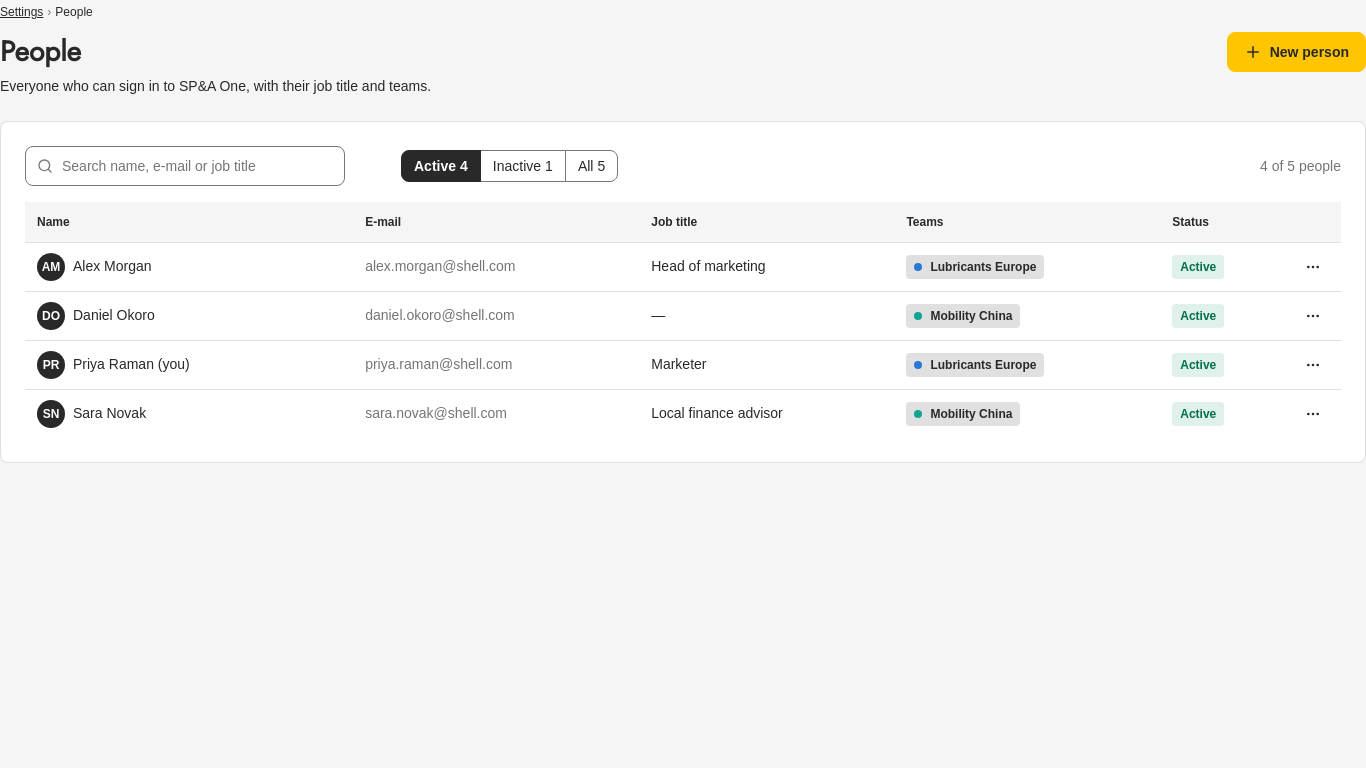
PeoplePage (feature 003, US1): New person and Edit person › edits a person and says who saved first after a conflict (US1-4)
Click the button named "Actions for Alex Morgan" at [1313, 266], box [1297,250,1329,282]
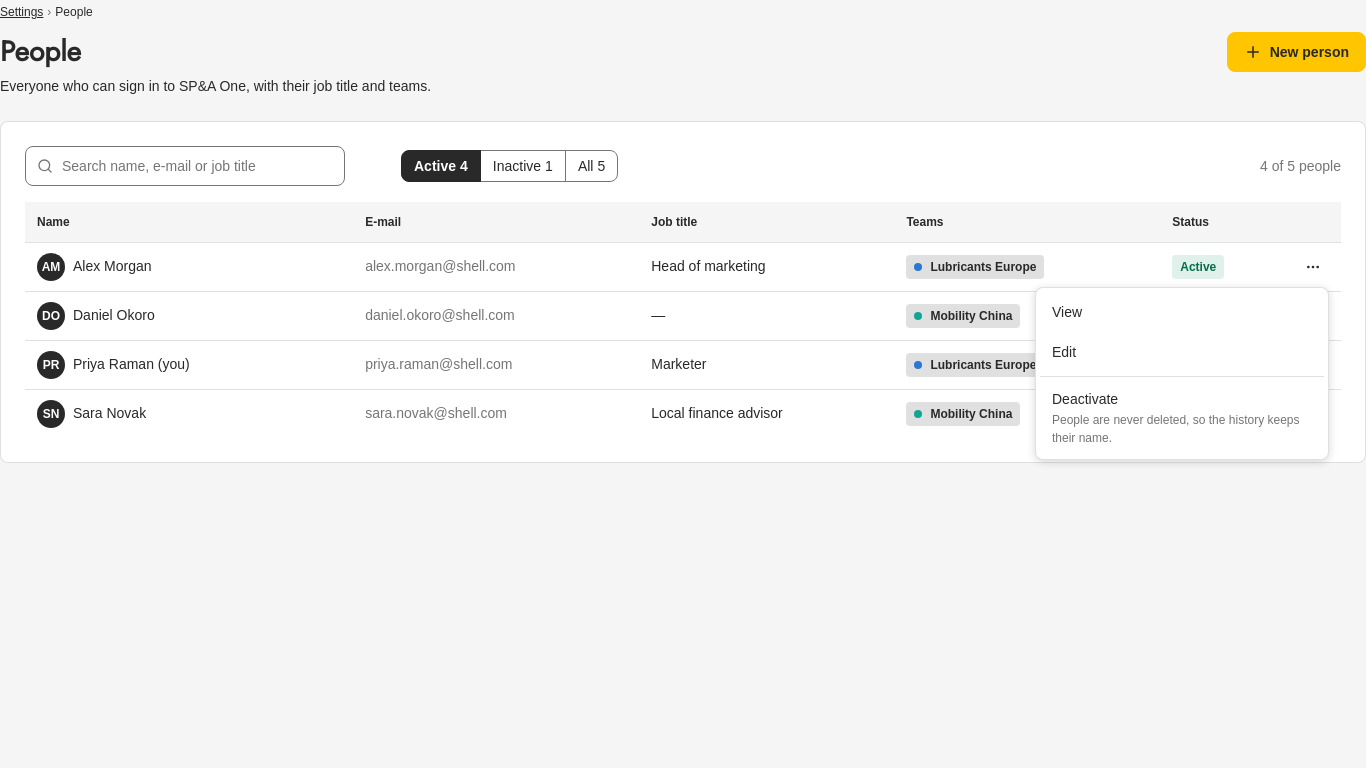
Click the menu item "Edit" at [1064, 352], box [1052,344,1076,360]
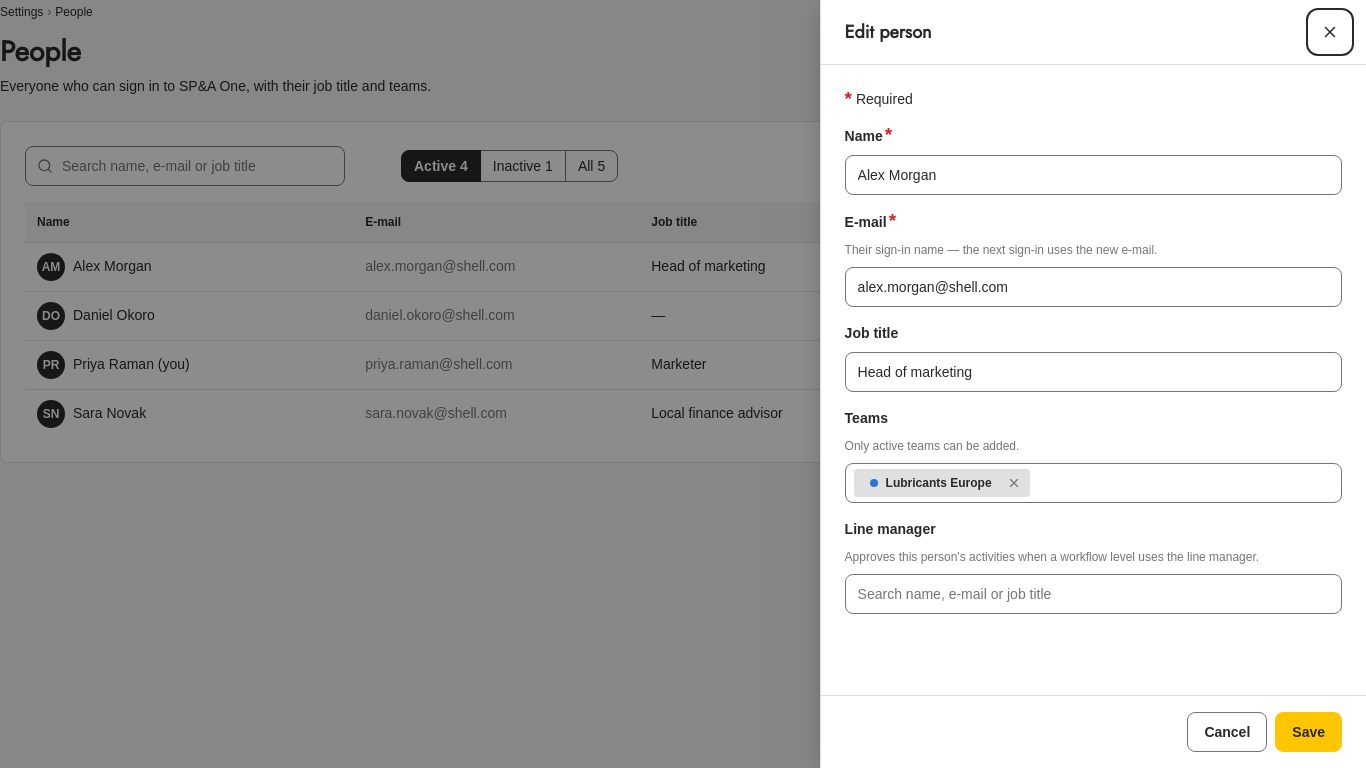
Expected: the text "Their sign-in name — the next sign-in uses the new e-mail." is shown, [845,243,1157,257]
Replace the text in the field labelled "Job title" with "Marketing director" at [1093, 372], box [845,352,1342,392]
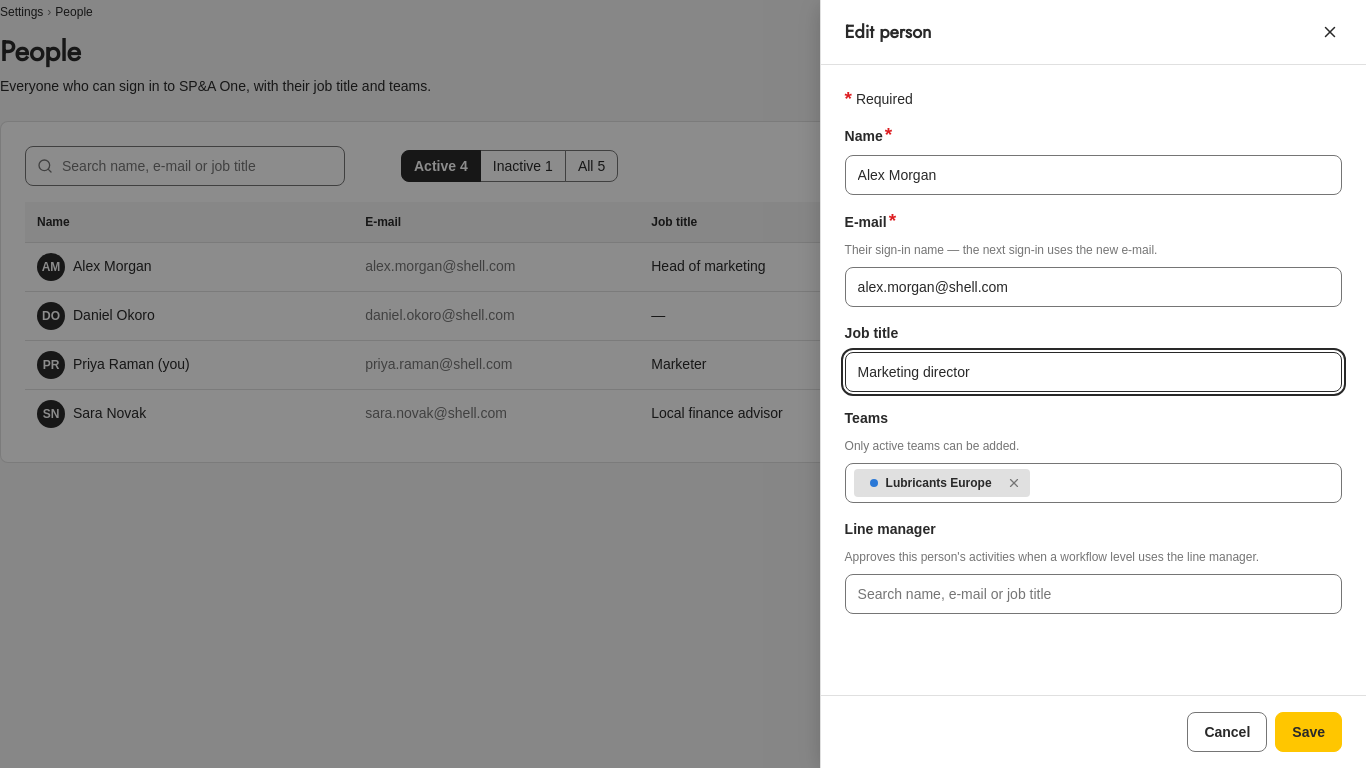
Click the button "Save" at [1309, 732], box [1275,712,1342,752]
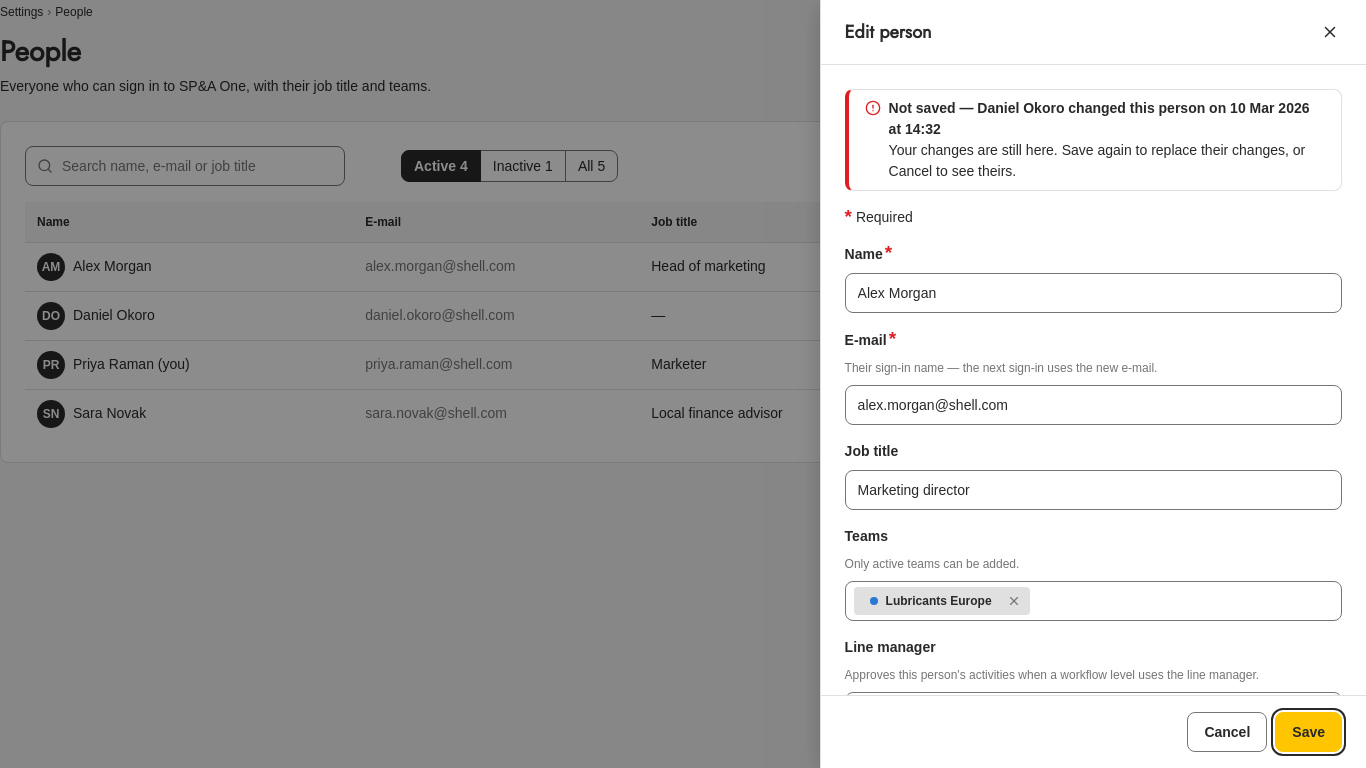
Expected: the text "Not saved — Daniel Okoro changed this person on 10 Mar 2026 at 14:32" is shown, [889,98,1325,140]
Click the button "Save" at [1309, 732], box [1275,712,1342,752]
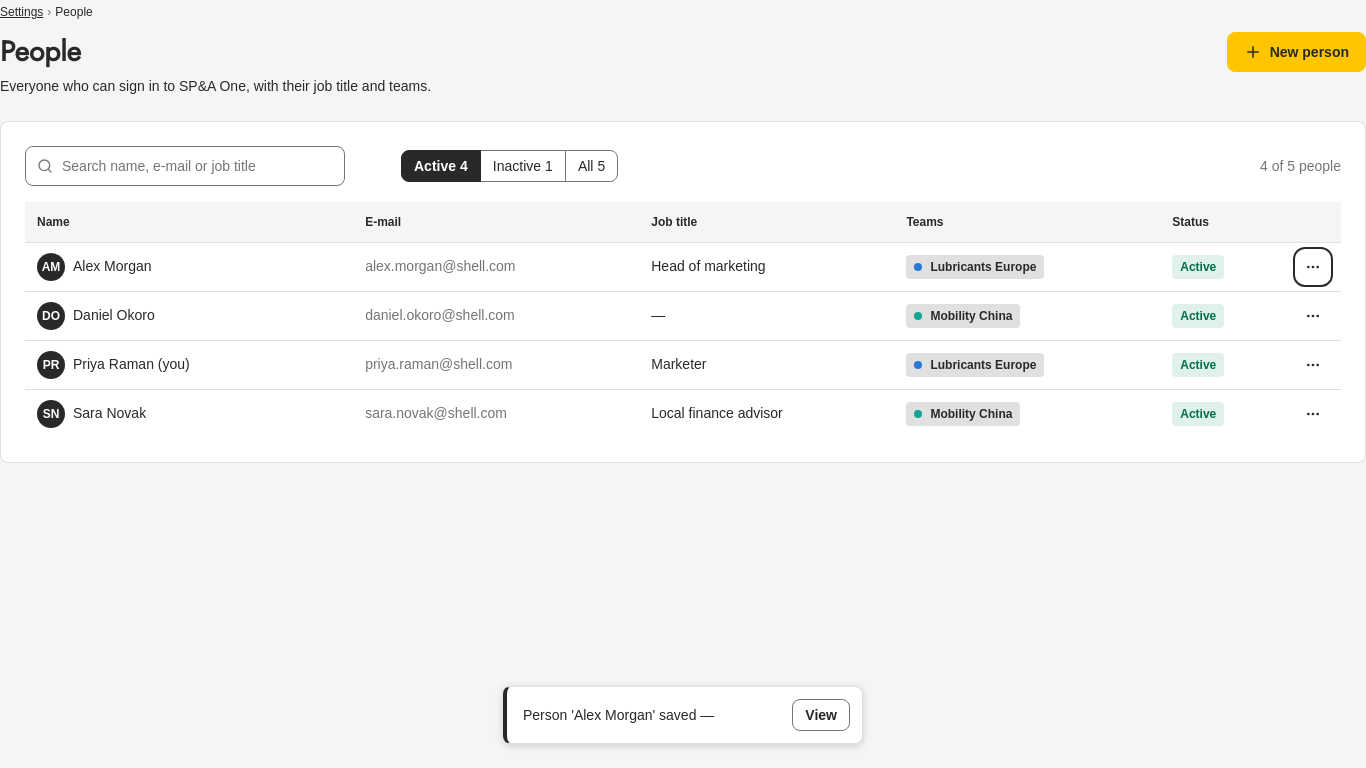
Expected: the text "Person 'Alex Morgan' saved" is shown, [523,706,700,722]
